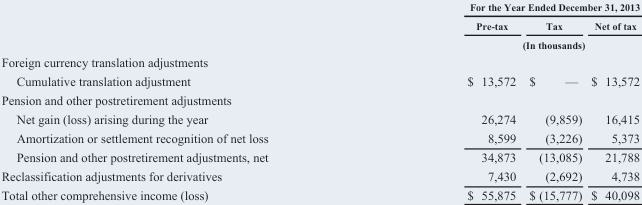table: (0, 1, 639, 201)
table column: (0, 1, 367, 201), (367, 1, 521, 201), (521, 1, 585, 201), (585, 1, 639, 201)
table column header: (0, 1, 639, 52)
table projected row header: (0, 52, 639, 71), (0, 90, 639, 109)
table row: (0, 16, 639, 35), (0, 52, 639, 71), (0, 71, 639, 90), (0, 90, 639, 109), (0, 109, 639, 128), (0, 128, 639, 147), (0, 147, 639, 166), (0, 166, 639, 185), (0, 35, 639, 52), (0, 185, 639, 201), (0, 1, 639, 16)
table spanning cell: (367, 35, 639, 52), (367, 1, 639, 16)
